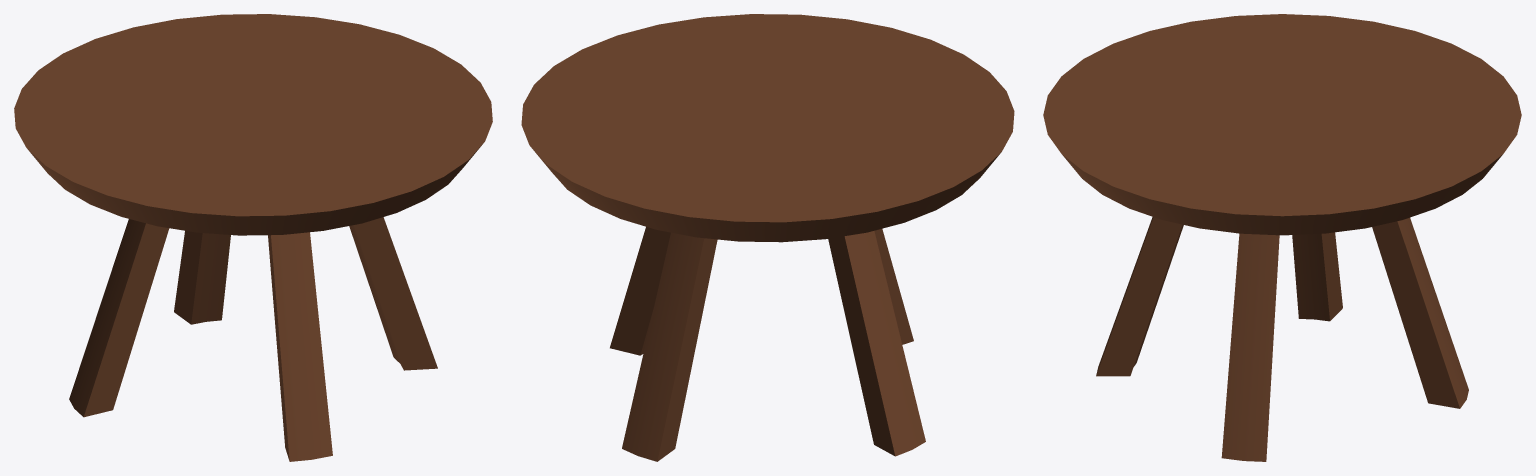
Rendered from TableRonde_21.fbx.
3 views of the same model, side by side, from view 1: azimuth 30°, elevation 25°; view 2: azimuth 150°, elevation 25°; view 3: azimuth 270°, elevation 25° (orthographic). The views are drawn at different scales.
Visible parts, largest first — view 1: pCylinder1778; view 2: pCylinder1778; view 3: pCylinder1778.
Boxes of the visible parts, left/top/right/bottom form: pCylinder1778: left=14, top=14, right=492, bottom=461; pCylinder1778: left=521, top=14, right=1014, bottom=461; pCylinder1778: left=1043, top=14, right=1521, bottom=461.
Bounding box in the file's own units: 44.11 × 27.26 × 44.11.
